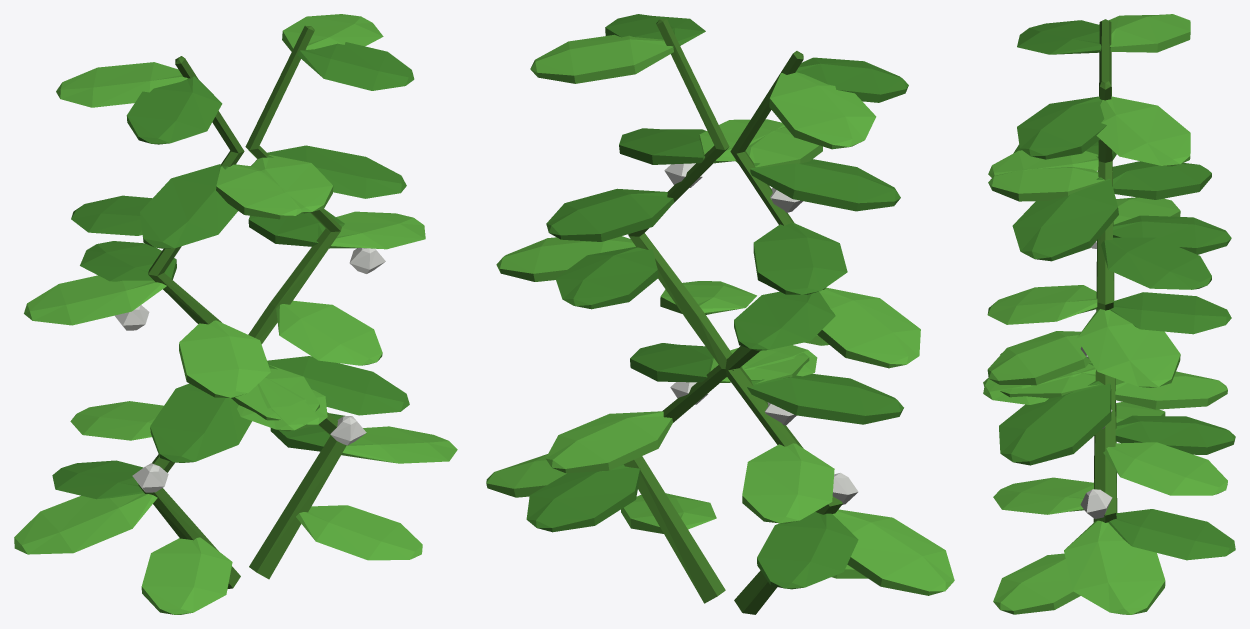
The model's file is greenbean_2.gltf.
3 renders of one model, left to right at view 1: azimuth 30°, elevation 25°; view 2: azimuth 150°, elevation 25°; view 3: azimuth 270°, elevation 25°, orthographic. The views are drawn at different scales.
Visible parts, largest first — view 1: greenbean_2; view 2: greenbean_2; view 3: greenbean_2.
Part boxes in pixels (box(x1,y1,x2,y2)): greenbean_2: box(14, 14, 457, 614); greenbean_2: box(486, 14, 954, 614); greenbean_2: box(983, 14, 1235, 614).
Size of the model in its own units: 1.03 by 1.23 by 0.5247.
